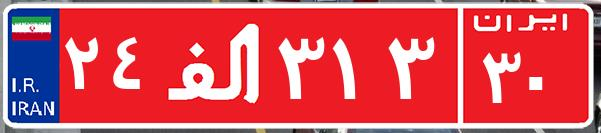0: (525, 38, 570, 115)
1: (330, 28, 385, 110)
2: (57, 26, 110, 107)
3: (385, 28, 445, 110), (273, 28, 330, 110), (475, 38, 525, 113)
4: (110, 28, 158, 105)
الف: (158, 15, 273, 115)
